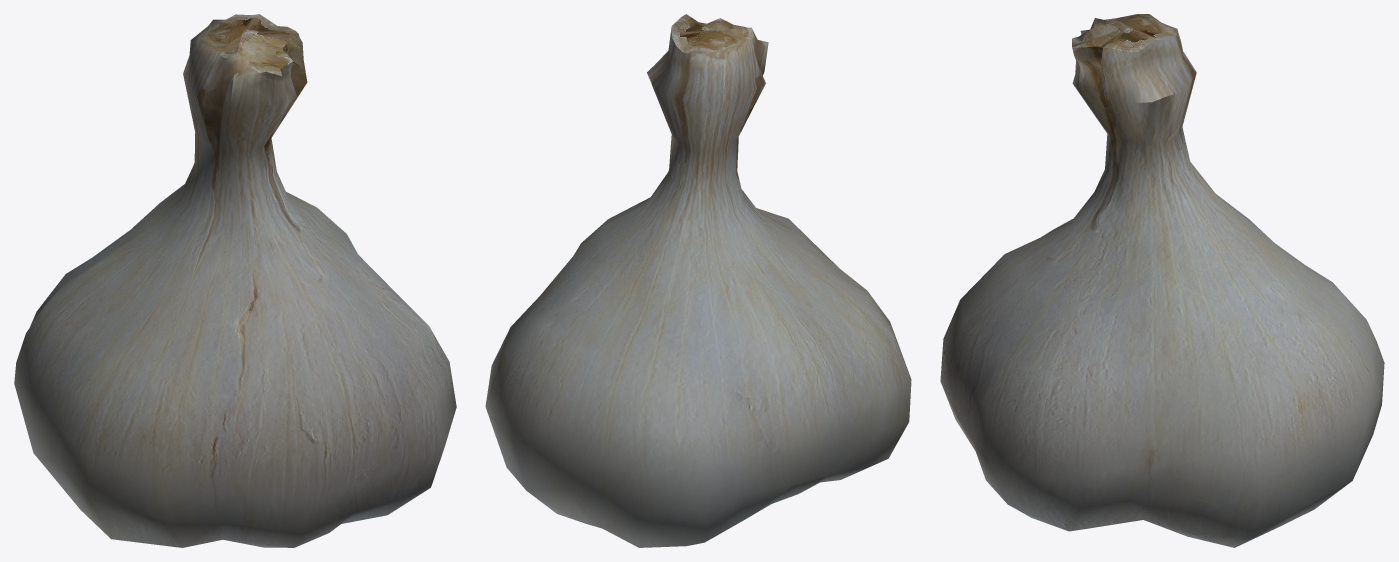
Rendered from SM_Garlic.fbx.
3 views of the same model, side by side, from view 1: azimuth 30°, elevation 25°; view 2: azimuth 150°, elevation 25°; view 3: azimuth 270°, elevation 25° (orthographic). The views are drawn at different scales.
Parts seen in each view (by area): view 1: SM_Garlic_LOD0; view 2: SM_Garlic_LOD0; view 3: SM_Garlic_LOD0.
Part boxes in pixels (bbox=[...]): SM_Garlic_LOD0: bbox=[14, 14, 456, 547]; SM_Garlic_LOD0: bbox=[485, 14, 911, 547]; SM_Garlic_LOD0: bbox=[940, 14, 1384, 547].
Bounding box in the file's own units: 9.41 × 10.42 × 12.14.
